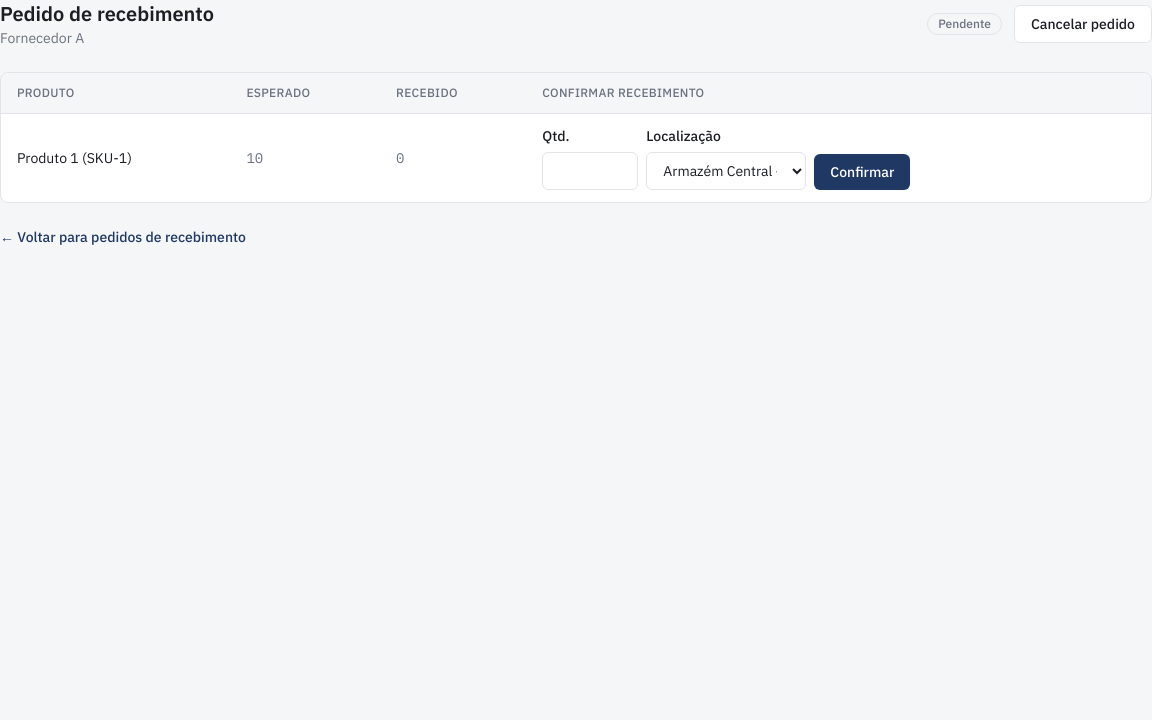
Test: PedidoRecebimentoDetailPage › cancela o pedido após confirmação do usuário
expect the text "Fornecedor A" is shown: met, box [0,29,84,47]
Step 1. Click the button "Cancelar pedido" → (1083, 24), box [1014,5,1151,43]
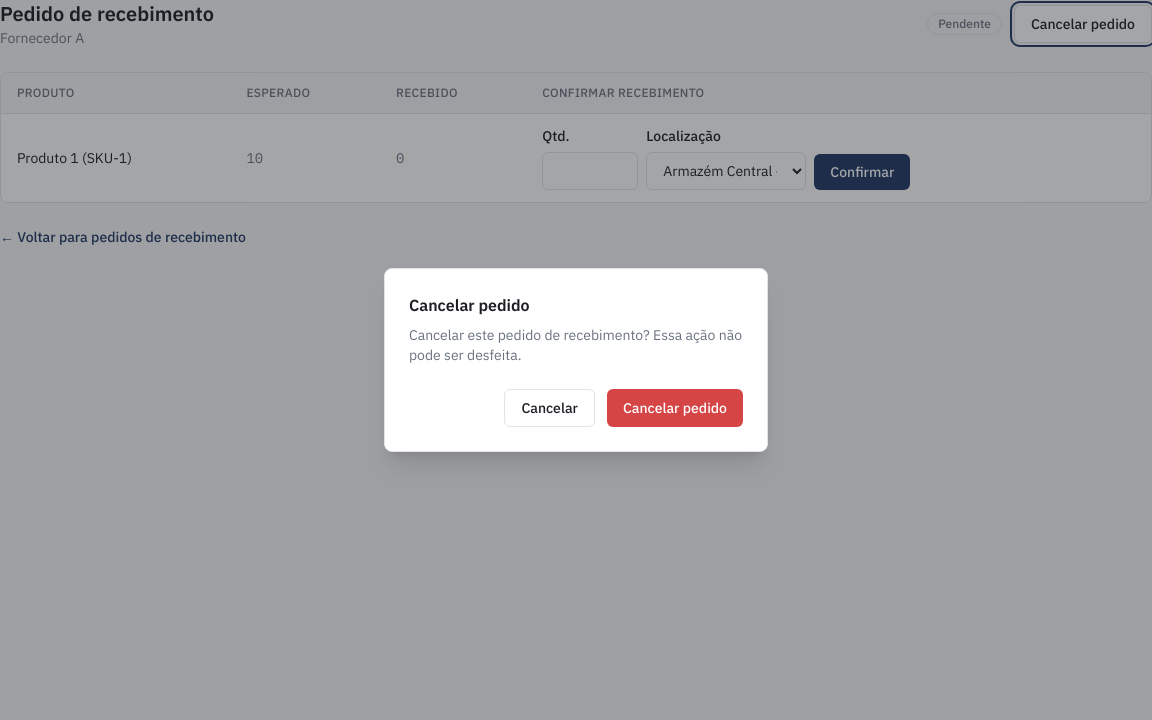
Step 2. Click the button "Cancelar pedido" → (675, 408), box [607,389,743,427]
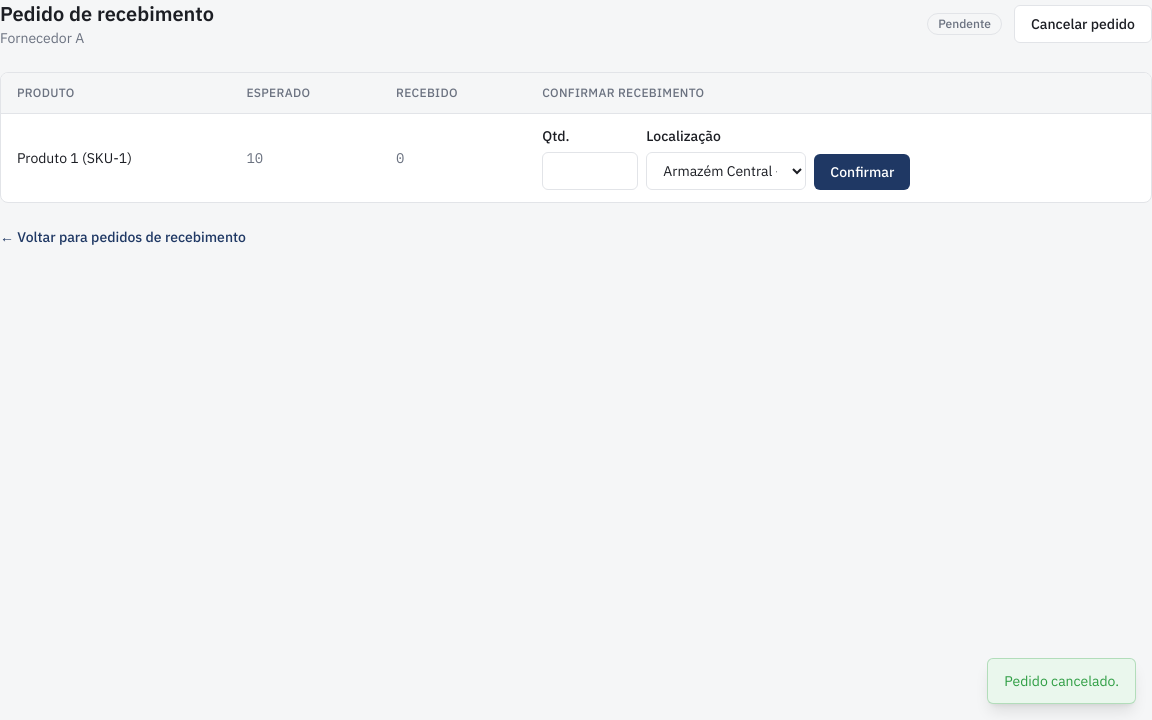
expect the text "Pedido cancelado." is shown: met, box [987,658,1136,704]
